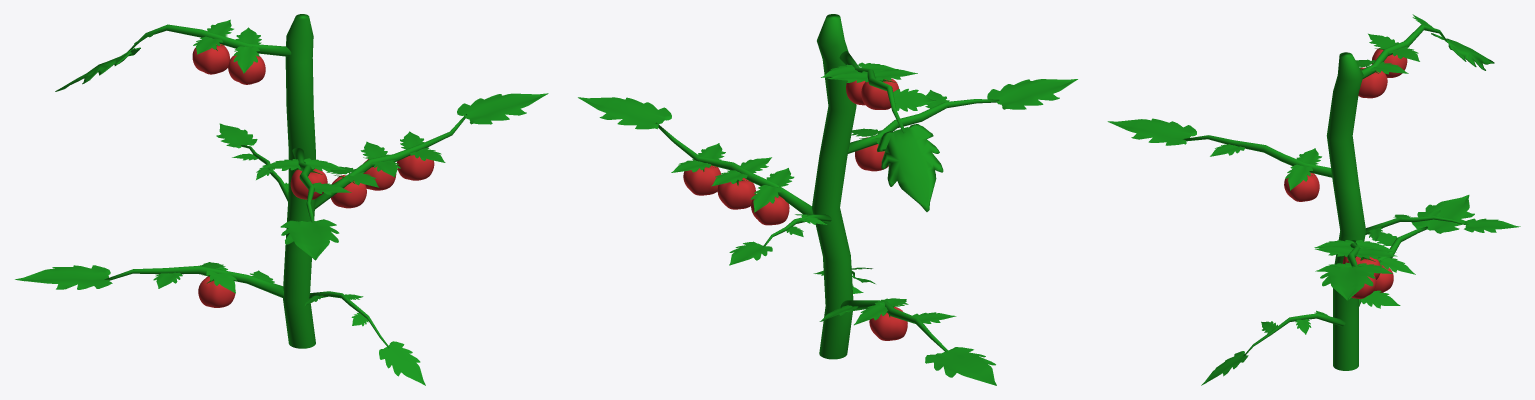
File: TomatoPlant.fbx
The picture shows the model from 3 angles, left to right: view 1: azimuth 30°, elevation 25°; view 2: azimuth 150°, elevation 25°; view 3: azimuth 270°, elevation 25°; orthographic projection. The views are drawn at different scales.
Visible parts, largest first — view 1: Cylinder, tomato.leaf.007, tomato.leaf.004, tomato.leaf.002, tomato.leaf.003, tomato.leaf.009, tomato.leaf.006, tomato.leaf.001; view 2: Cylinder, tomato.leaf.001, tomato.leaf.002, tomato.leaf.004, tomato.leaf.003, tomato.leaf.007, tomato.leaf.006; view 3: Cylinder, tomato.leaf.006, tomato.leaf.009, tomato.leaf.007.
Part boxes in pixels (<box>): Cylinder: <box>15,14,548,385</box>; tomato.leaf.007: <box>192,44,229,74</box>; tomato.leaf.004: <box>198,275,235,307</box>; tomato.leaf.002: <box>397,147,434,180</box>; tomato.leaf.003: <box>331,173,366,208</box>; tomato.leaf.009: <box>228,51,265,84</box>; tomato.leaf.006: <box>290,168,327,199</box>; tomato.leaf.001: <box>363,157,396,190</box>; Cylinder: <box>578,14,1077,385</box>; tomato.leaf.001: <box>717,178,755,209</box>; tomato.leaf.002: <box>683,159,721,195</box>; tomato.leaf.004: <box>869,306,907,340</box>; tomato.leaf.003: <box>751,196,789,225</box>; tomato.leaf.007: <box>861,78,898,109</box>; tomato.leaf.006: <box>855,135,888,171</box>; Cylinder: <box>1107,14,1520,385</box>; tomato.leaf.006: <box>1284,169,1319,201</box>; tomato.leaf.009: <box>1358,66,1387,98</box>; tomato.leaf.007: <box>1372,48,1407,77</box>.
Size of the model in its own units: 1293 by 856 by 1034.
